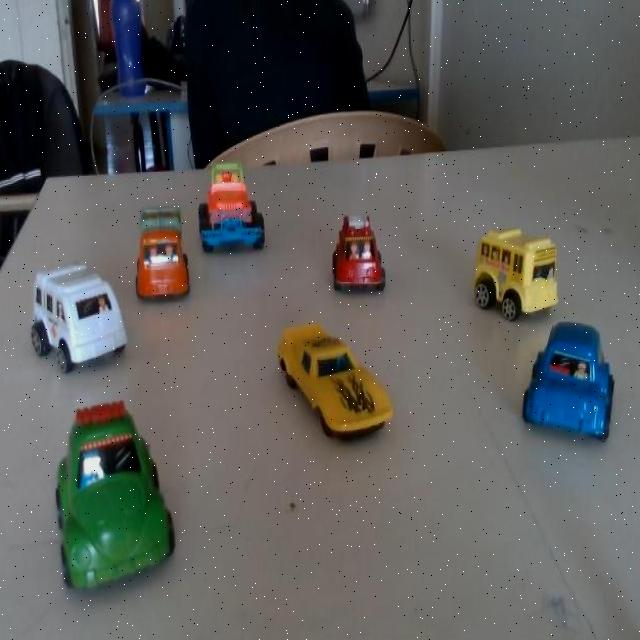car: (28, 400, 183, 586), (262, 319, 401, 446), (17, 246, 132, 388), (520, 316, 622, 449), (461, 226, 550, 327), (316, 201, 392, 311), (198, 152, 278, 254), (127, 192, 193, 310)
